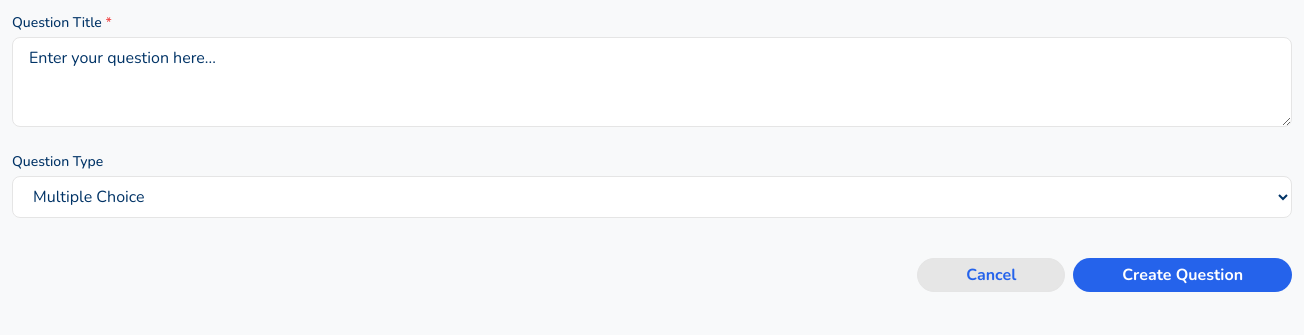
Test: QuestionForm (Molecule) › Form validation › should show error for short title
Replace the text in the text box labelled "Question Title *" with "Hi": (652, 82) [12,37,1292,127]
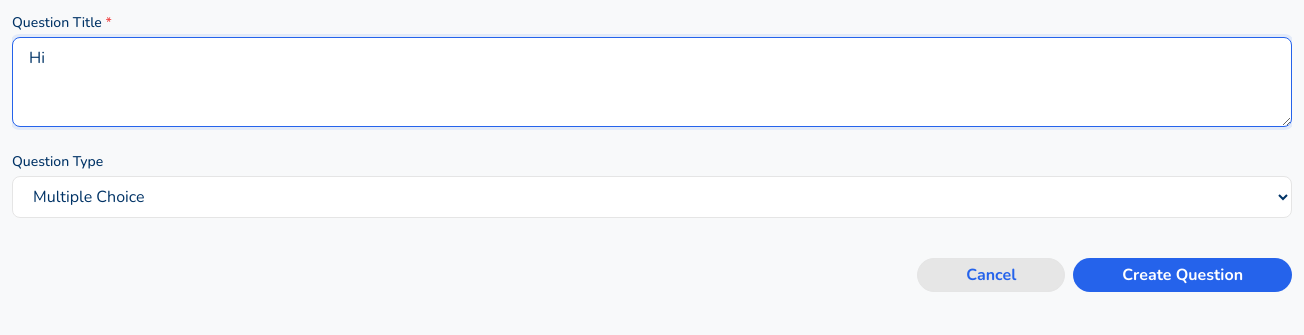
Click the button "Create Question": (1183, 275) [1073,258,1292,292]
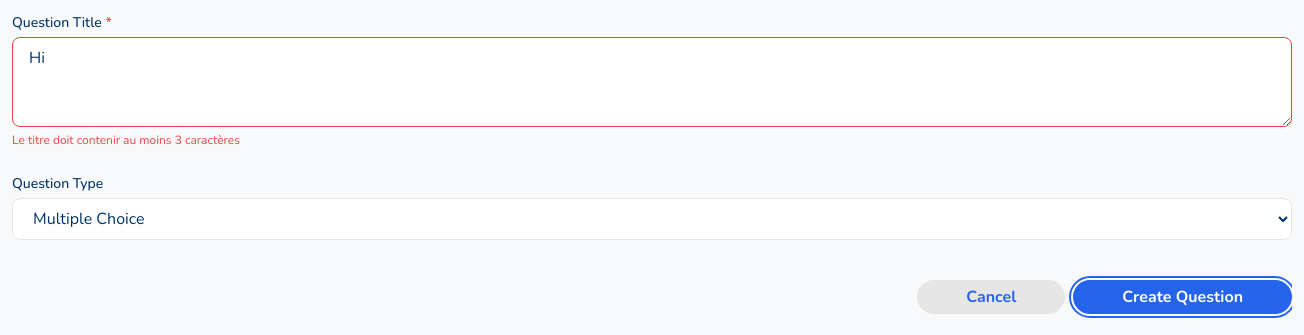
Result: the text "Le titre doit contenir au moins 3 caractères" is shown at [12,132,240,148]
